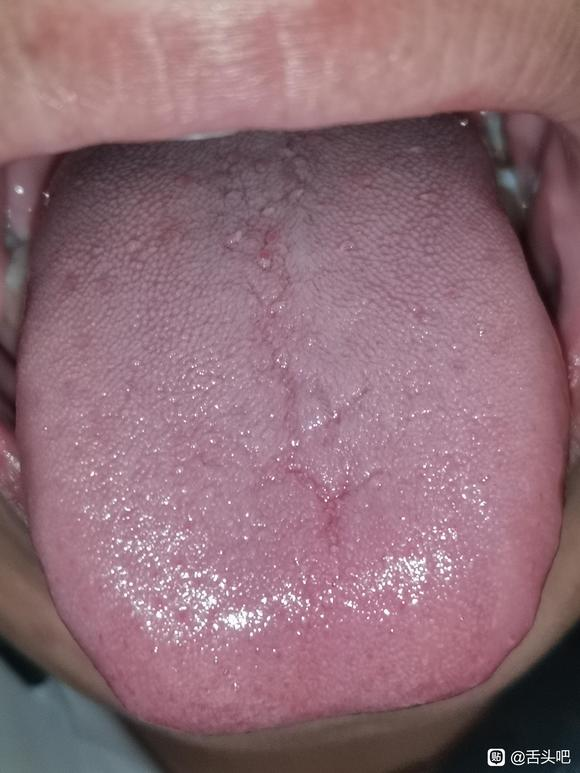baitaishe: (16, 113, 569, 734)
liewenshe: (241, 212, 389, 547)
